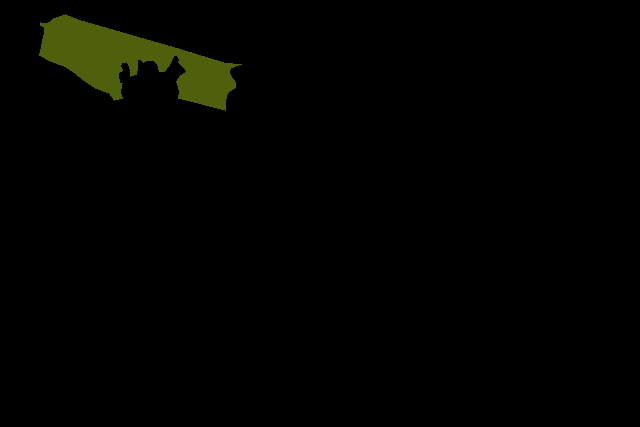Train: (39, 14, 242, 111)
